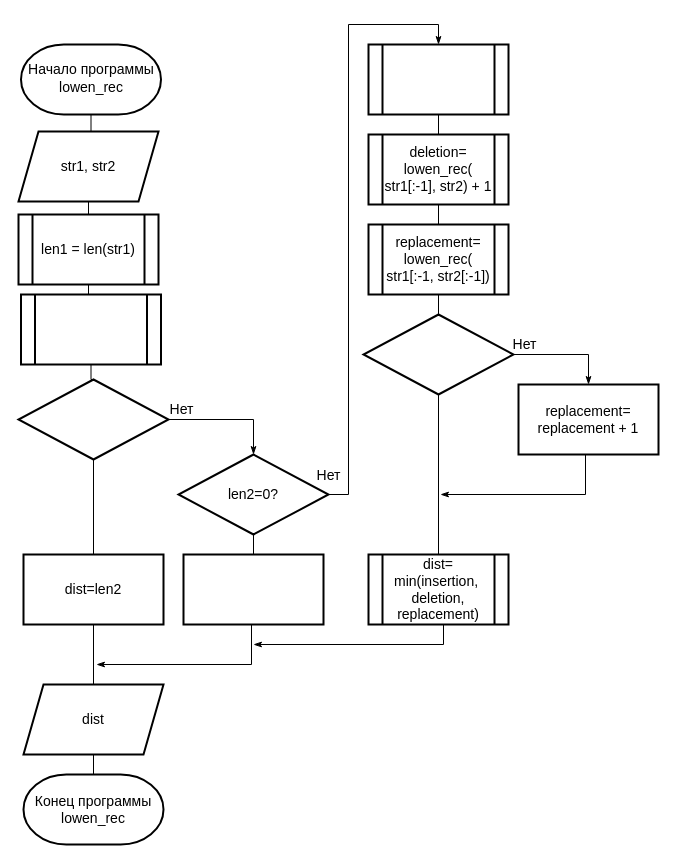
Image size: 676x863. Some labels were removed from this diagram. The centre of each missing label's shape, as x and y in pixels:
"dist=len1" belongs at (x=253, y=589).
"insertion= lowen_rec( str1, str2[:-1]) + 1" belongs at (x=438, y=79).
"len1=0?" belongs at (x=93, y=419).
"len2 = len(str2)" belongs at (x=91, y=329).
"str1[i-1] = str2[j-1]?" belongs at (x=438, y=354).
